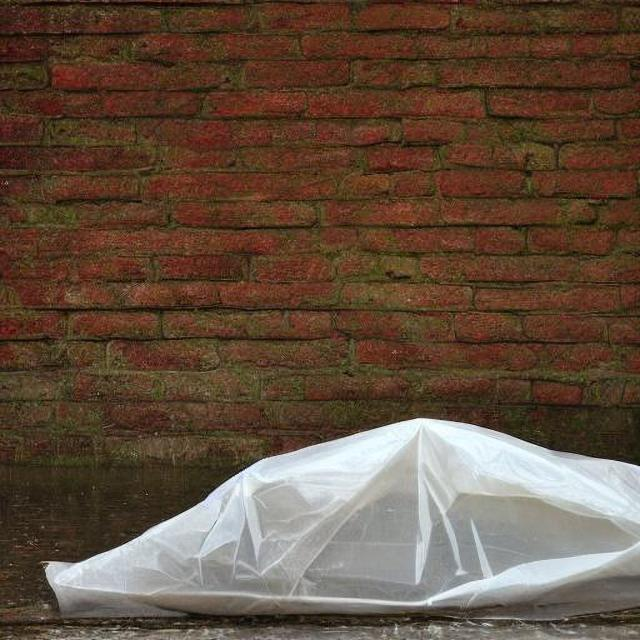plastic bag: (33, 413, 638, 619)
